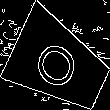O_SE: (31, 33, 88, 96)
